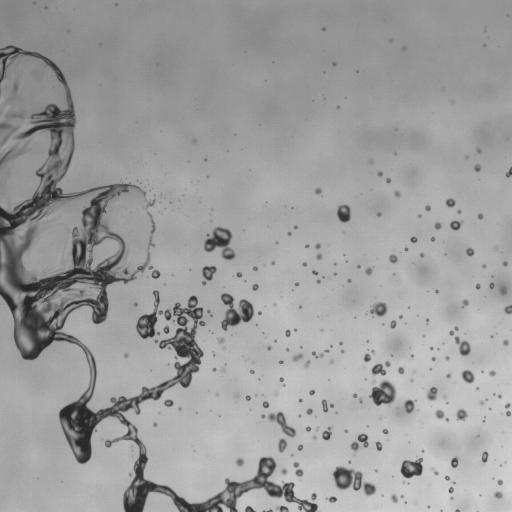droplet: (221, 293, 254, 330), (204, 227, 235, 260), (369, 380, 396, 405), (400, 458, 422, 483), (350, 433, 368, 451), (202, 265, 216, 284), (371, 361, 390, 375), (369, 302, 387, 316), (337, 204, 350, 222), (461, 369, 474, 383), (404, 399, 416, 413), (435, 409, 448, 421), (426, 387, 437, 400), (322, 400, 333, 412), (322, 426, 332, 439), (456, 409, 467, 420), (450, 220, 462, 230), (278, 438, 286, 452), (481, 451, 488, 464), (445, 198, 455, 207), (450, 457, 459, 467), (292, 353, 303, 361), (389, 254, 397, 263), (235, 458, 244, 466), (504, 304, 511, 314), (466, 248, 474, 256), (363, 353, 371, 361), (164, 399, 173, 406), (375, 441, 382, 450), (326, 496, 336, 502), (365, 267, 372, 275), (494, 491, 502, 498), (390, 494, 397, 502), (245, 506, 255, 511), (434, 222, 441, 229), (500, 287, 506, 295), (390, 320, 396, 328), (285, 329, 291, 337), (398, 366, 404, 374), (474, 164, 480, 171), (315, 187, 321, 194), (462, 299, 468, 306), (163, 326, 169, 333), (217, 337, 224, 343), (394, 191, 400, 197), (477, 213, 483, 219), (316, 253, 322, 259), (252, 284, 258, 290), (306, 408, 312, 414), (281, 468, 287, 474), (410, 237, 417, 242), (304, 360, 309, 367), (315, 243, 320, 249), (236, 272, 242, 277), (503, 339, 508, 345), (489, 370, 495, 375), (263, 401, 268, 407), (382, 429, 388, 434), (448, 487, 453, 493), (476, 148, 481, 153), (425, 205, 430, 210), (502, 261, 507, 266), (446, 373, 451, 378), (309, 390, 314, 395), (245, 395, 250, 400), (279, 377, 283, 383), (298, 444, 302, 450), (378, 171, 382, 176), (430, 237, 435, 241), (312, 270, 317, 274), (490, 283, 494, 288), (476, 284, 480, 289), (207, 310, 211, 315), (370, 350, 375, 354), (353, 393, 358, 397), (497, 480, 502, 484), (386, 178, 390, 182), (302, 262, 306, 266), (482, 264, 486, 268), (253, 266, 257, 270), (124, 353, 128, 357), (445, 356, 449, 360), (298, 398, 302, 402), (261, 414, 265, 418), (306, 427, 310, 431), (445, 476, 449, 480), (369, 159, 372, 163), (377, 212, 380, 216), (420, 253, 423, 257), (271, 261, 275, 264), (317, 279, 320, 283), (347, 279, 351, 282), (267, 346, 271, 349), (497, 395, 501, 398), (359, 398, 362, 402), (480, 401, 484, 404), (153, 423, 157, 426), (457, 210, 460, 213), (418, 214, 421, 217), (294, 226, 297, 229), (287, 232, 290, 235), (305, 244, 308, 247), (404, 247, 407, 250), (295, 282, 298, 285), (134, 302, 137, 305), (399, 315, 402, 318), (426, 319, 429, 322), (432, 357, 435, 360), (279, 360, 282, 363), (221, 367, 224, 370), (250, 370, 253, 373), (313, 436, 316, 439), (402, 47, 405, 49), (333, 62, 335, 65), (465, 156, 468, 158), (334, 272, 336, 275), (435, 290, 438, 292), (258, 312, 261, 314), (294, 328, 296, 331), (339, 342, 342, 344), (430, 347, 433, 349), (286, 348, 288, 351), (330, 360, 332, 363), (213, 368, 215, 371), (410, 379, 413, 381), (476, 387, 479, 389), (275, 392, 278, 394), (344, 430, 347, 432), (400, 495, 403, 497), (450, 497, 453, 499), (337, 106, 339, 108), (124, 206, 126, 208), (213, 352, 215, 354), (237, 394, 239, 396), (316, 427, 318, 429)
ligament: (0, 48, 318, 511), (332, 466, 376, 495), (267, 411, 295, 437), (449, 326, 470, 355), (10, 79, 19, 99), (293, 462, 303, 477), (312, 349, 328, 358), (276, 505, 289, 511), (505, 403, 511, 415), (0, 85, 9, 92), (506, 167, 511, 177), (431, 468, 438, 475), (263, 509, 273, 511), (454, 509, 460, 511)
